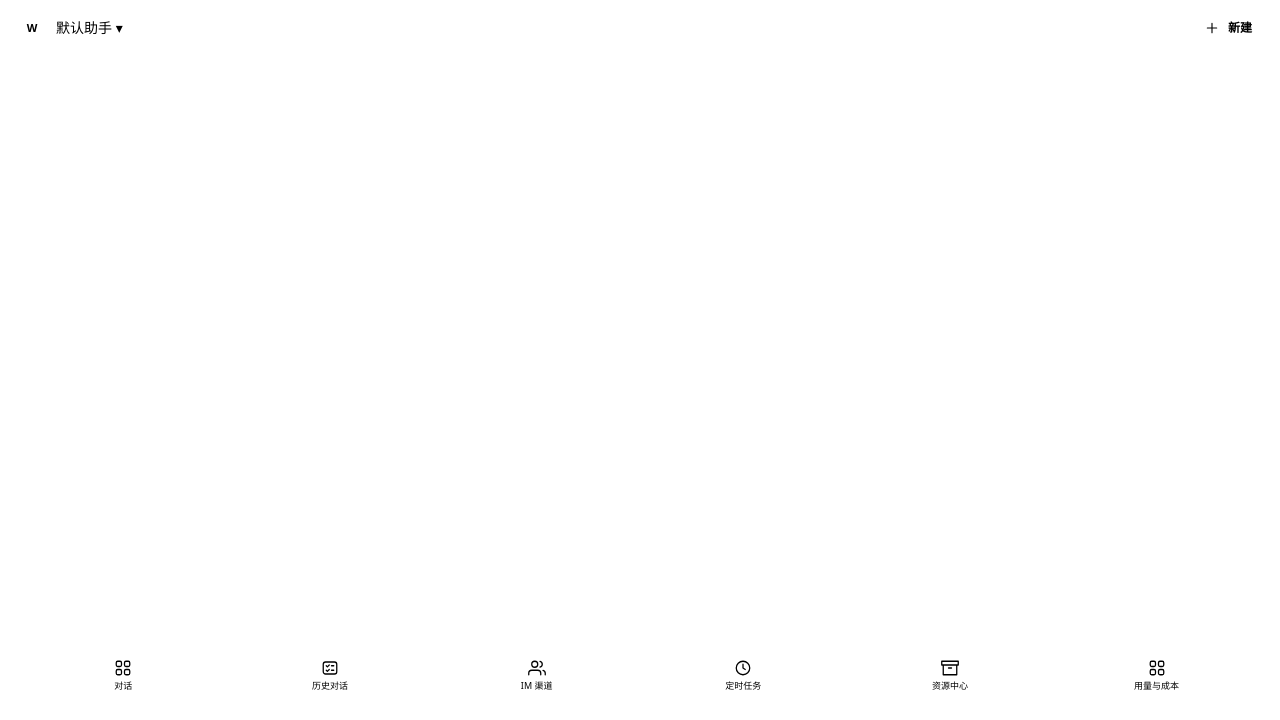
Test case: offers an accessible mobile agent switcher
Click the button with aria-label "切换智能体". click: click(84, 28)
box: [56,18,1184,38]
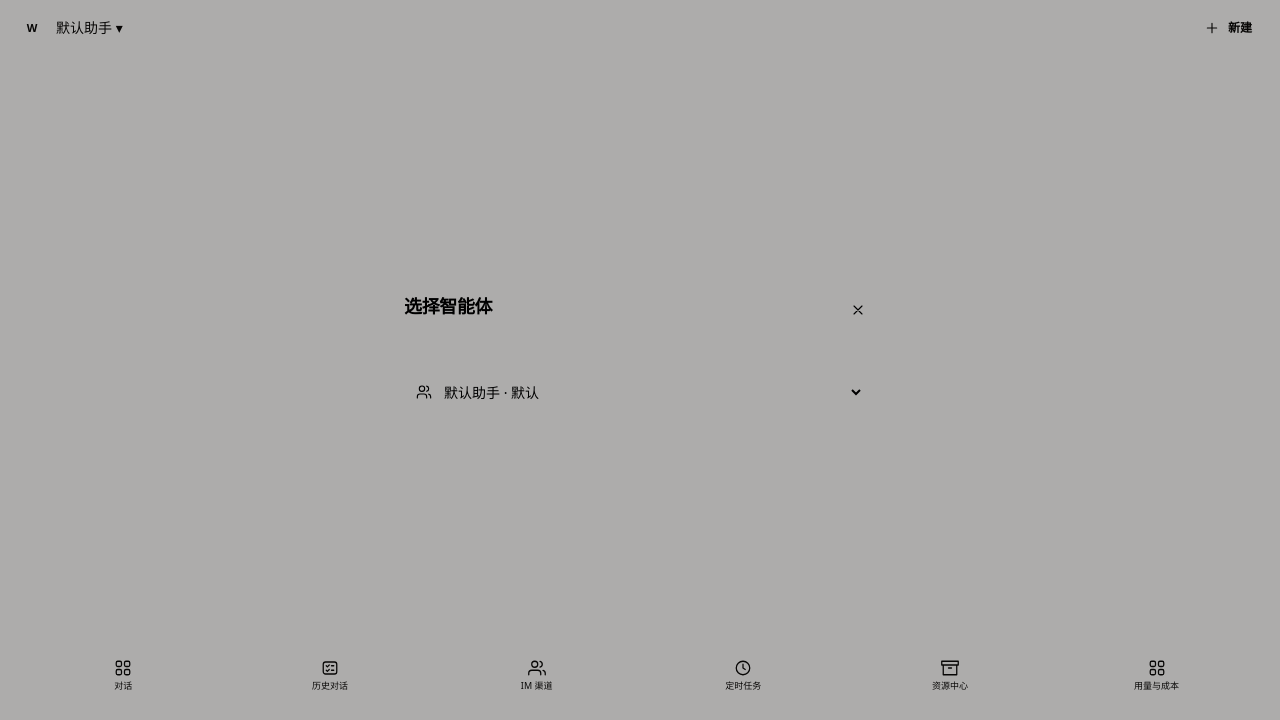
Select "其他助手" in the dropdown named "当前智能体（移动端）". click: (652, 392)
box: [440,376,864,408]
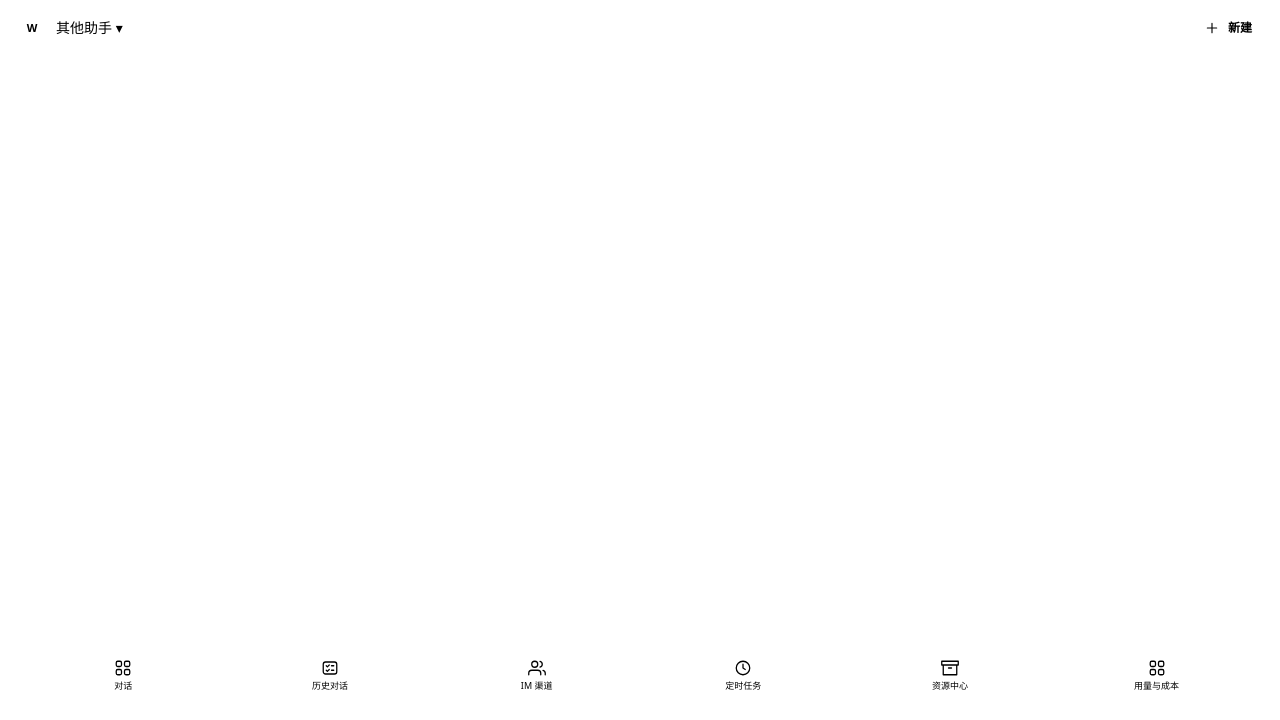
Expected: the dialog is gone
